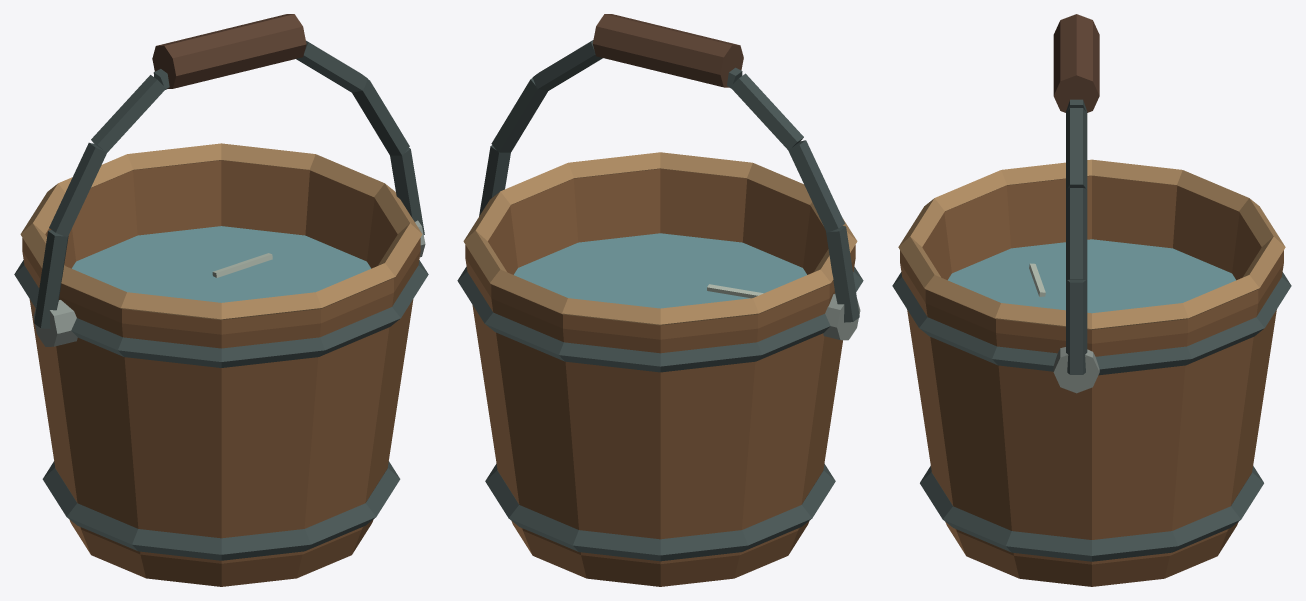
Rendered from water_bucket.glb.
3 renders of one model, left to right at view 1: azimuth 30°, elevation 25°; view 2: azimuth 150°, elevation 25°; view 3: azimuth 270°, elevation 25°, orthographic. The views are drawn at different scales.
Visible parts, largest first — view 1: geometry; view 2: geometry; view 3: geometry.
Boxes of the visible parts, left/top/right/bottom form: geometry: left=14, top=14, right=428, bottom=586; geometry: left=457, top=14, right=863, bottom=586; geometry: left=892, top=14, right=1291, bottom=586.
Bounding box in the file's own units: 0.5008 × 0.622 × 0.468.
